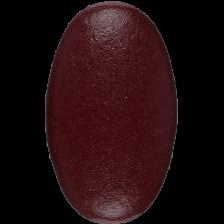53808-0770: (0, 0, 224, 224)
